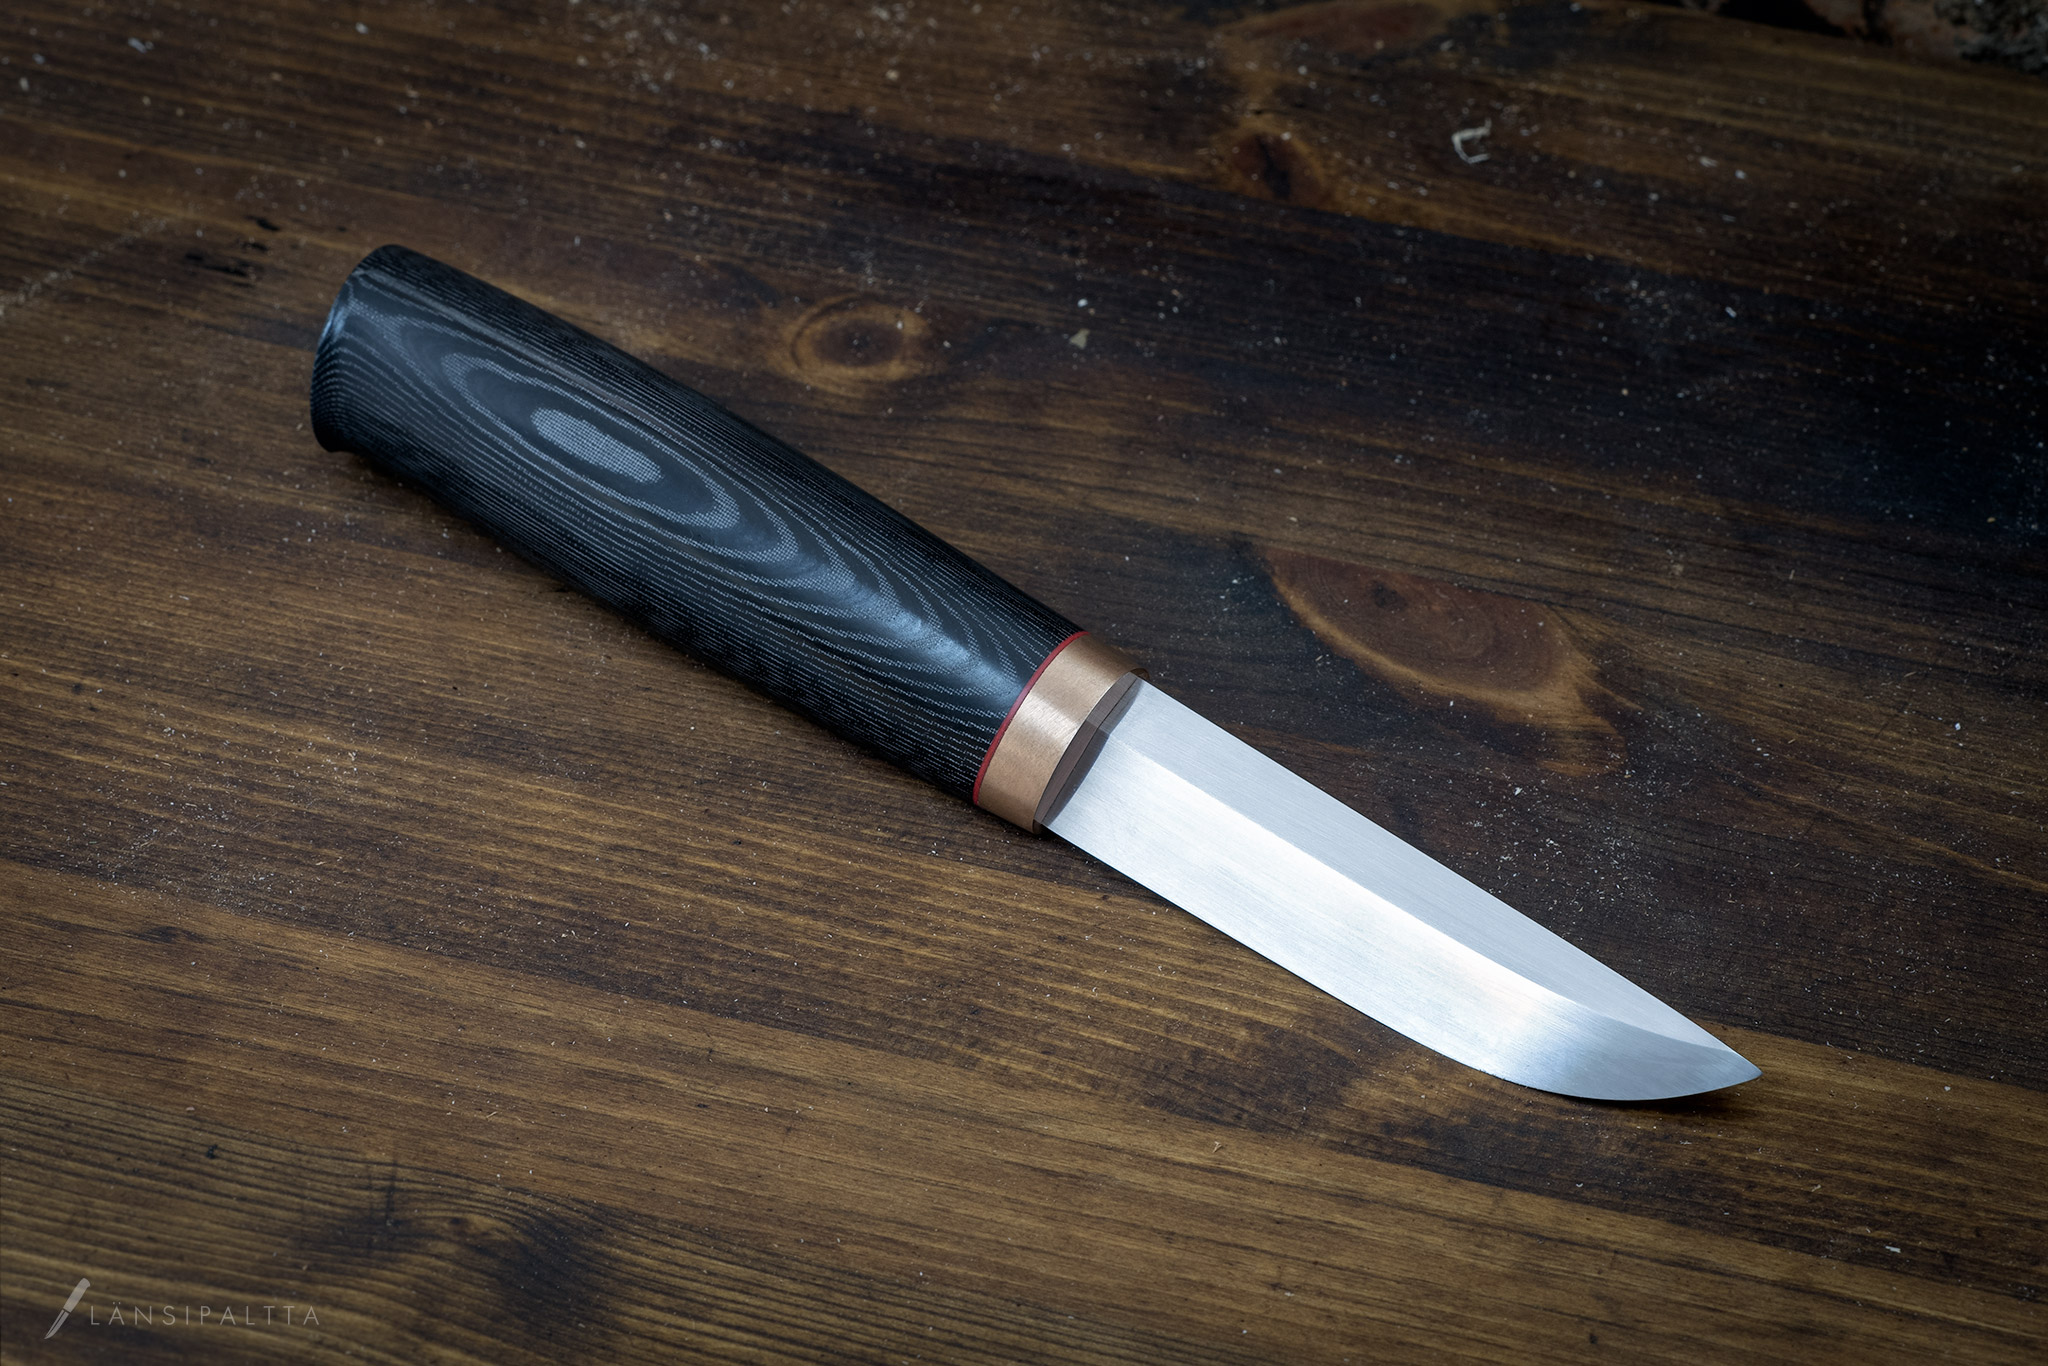knife: (302, 233, 1774, 1241)
